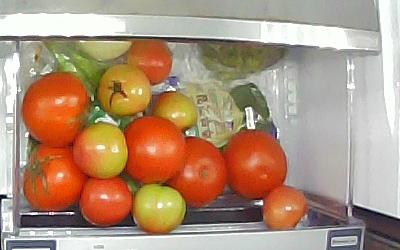tomato: (22, 72, 90, 147), (225, 130, 289, 199), (166, 136, 227, 208), (122, 116, 187, 183), (23, 146, 87, 212), (72, 121, 128, 179), (97, 64, 151, 117), (133, 183, 187, 234), (81, 178, 132, 227), (261, 186, 308, 232), (127, 39, 173, 85), (152, 90, 197, 133)
